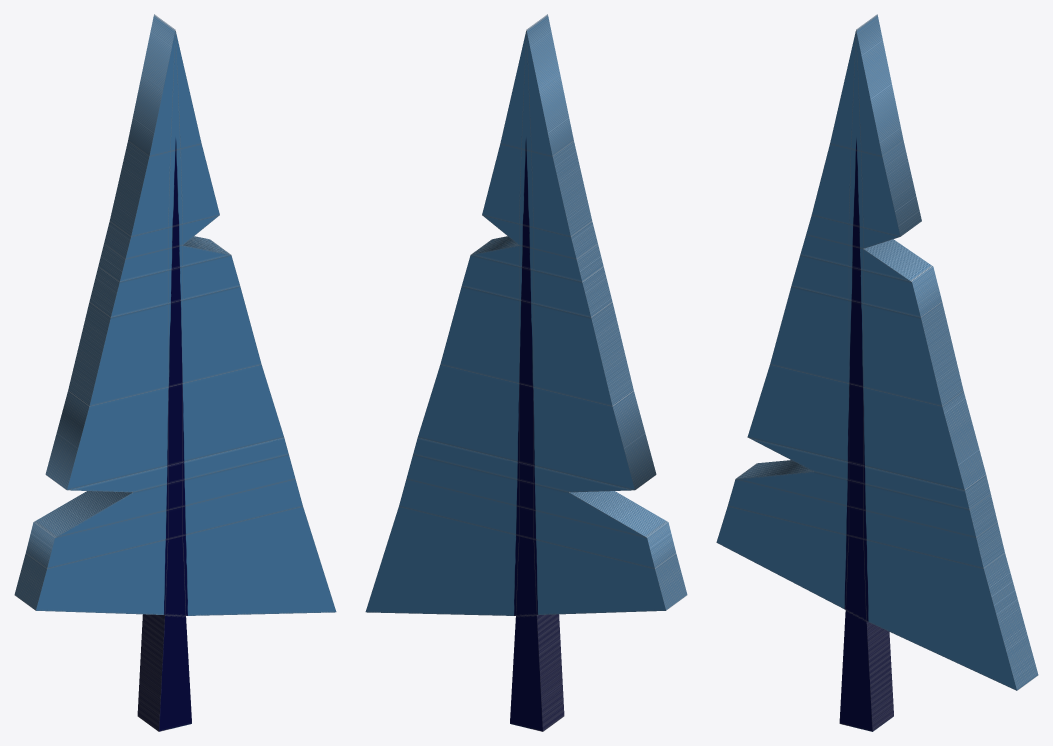
File: Tree2.obj
3 renders of one model, left to right at view 1: azimuth 30°, elevation 25°; view 2: azimuth 150°, elevation 25°; view 3: azimuth 330°, elevation 25°, orthographic.
Parts seen in each view (by area): view 1: pCube1; view 2: pCube1; view 3: pCube1.
Boxes of the visible parts, box(x1,y1,x2,y2) form: pCube1: box(14, 14, 336, 731); pCube1: box(365, 14, 687, 731); pCube1: box(716, 14, 1038, 731).
Bounding box in the file's own units: 8.12 × 18.02 × 1.
Materials: 1 (1 with a texture image).
